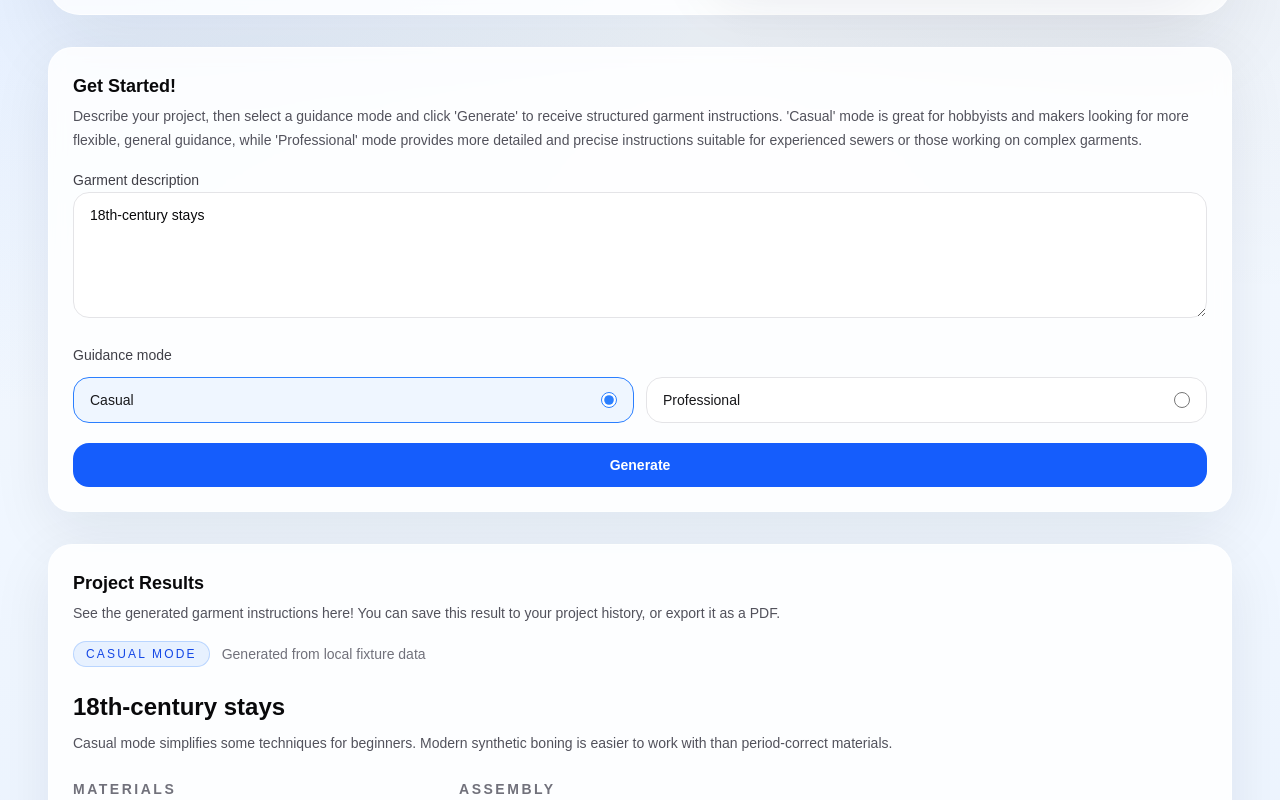
Test: Milestone 1 UX paths › updates results for professional stays selection
The image size is (1280, 800).
(page scrolled)
Click the radio button labelled "Professional" at (1182, 400), box [1174, 392, 1190, 408]
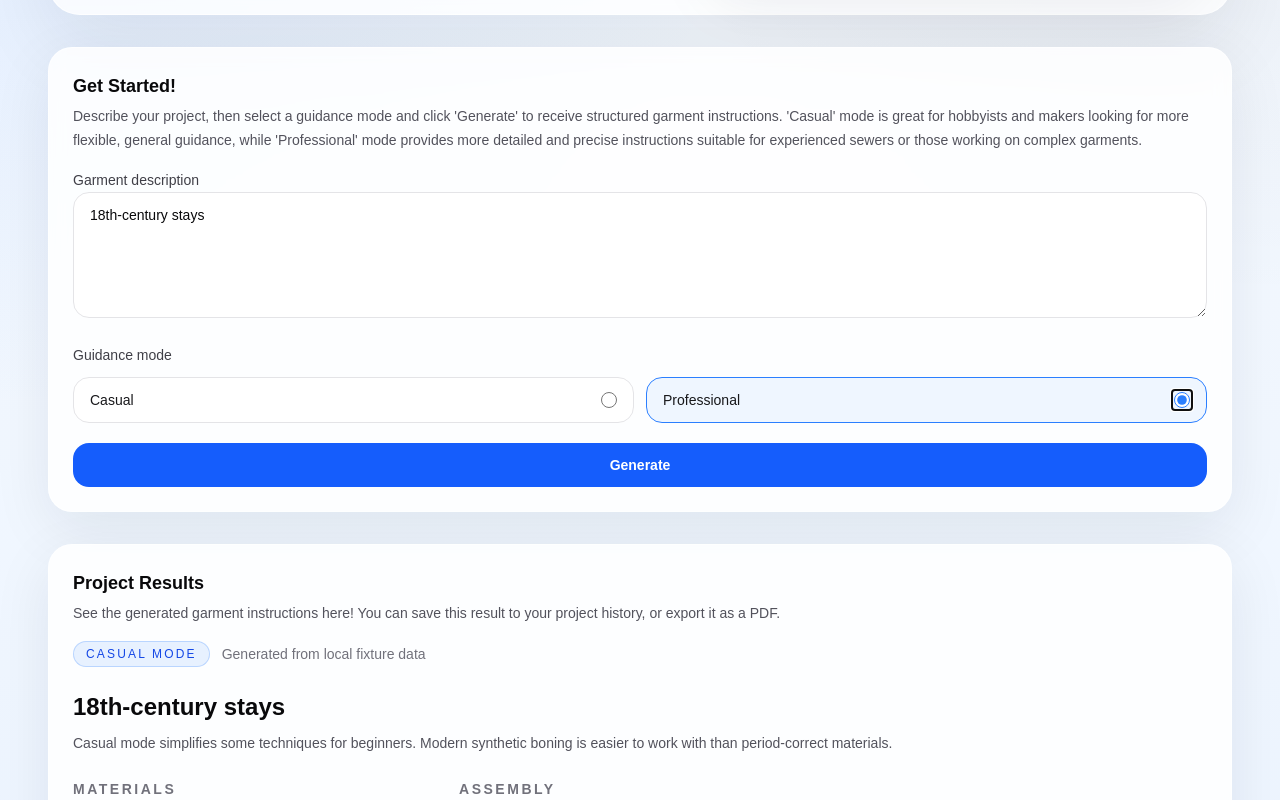
Click the button "Generate" at (640, 465), box [73, 443, 1207, 487]
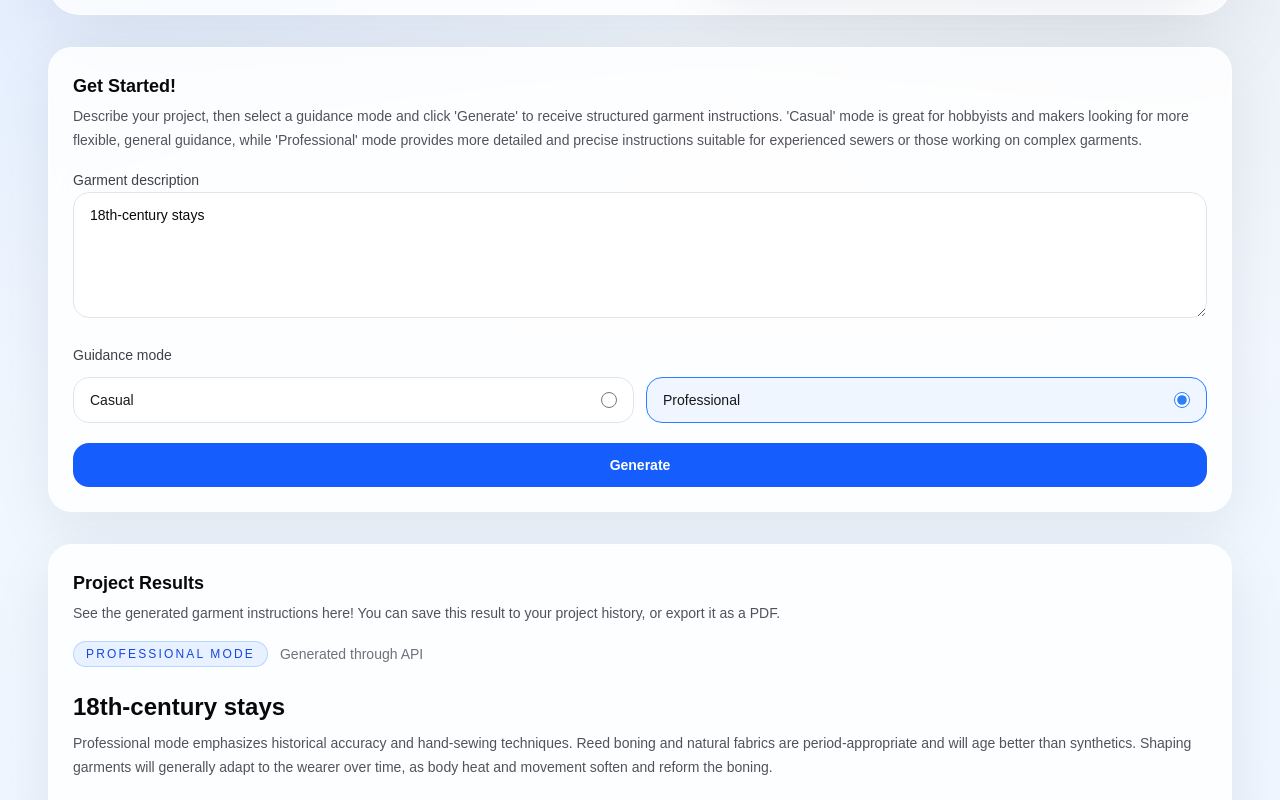
Now the text "professional mode" is shown, box [73, 641, 268, 667]
Now the text "historical accuracy and hand-sewing" is shown, box [73, 735, 1191, 775]
